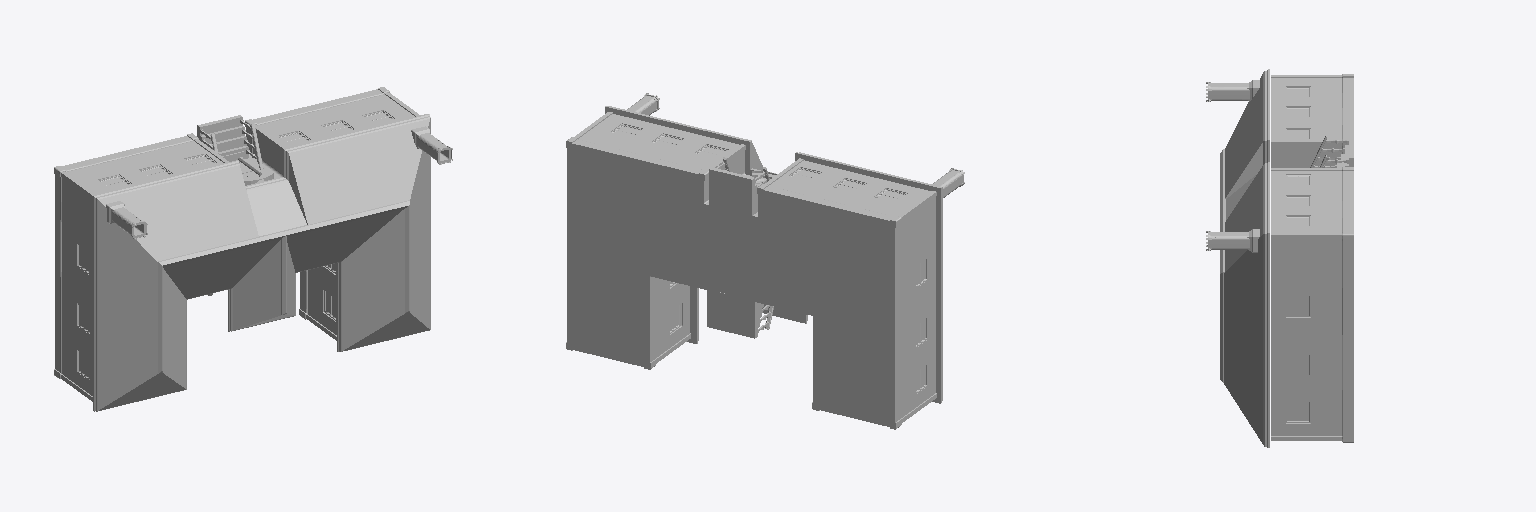
Rendered from oldhouse2.obj.
3 views of the same model, side by side, from view 1: azimuth 30°, elevation 25°; view 2: azimuth 150°, elevation 25°; view 3: azimuth 270°, elevation 25° (orthographic).
Size of the model in its own units: 0.127 by 0.0797 by 0.0486.